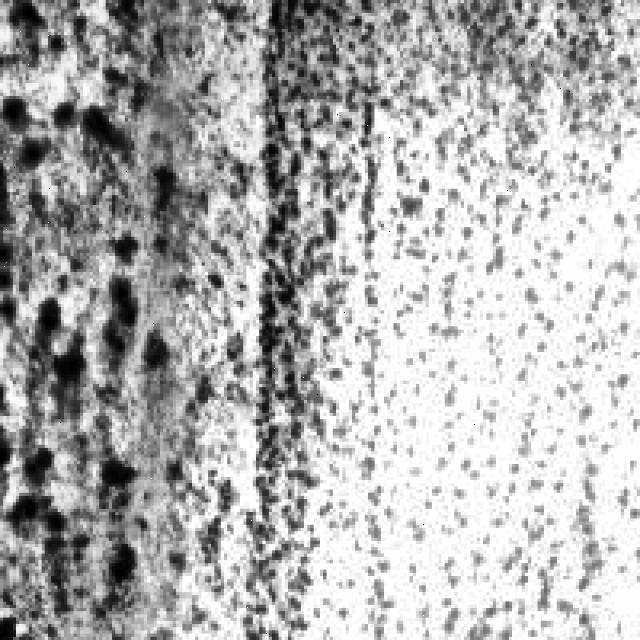Rolled_in_Scale: (0, 0, 170, 602), (246, 0, 378, 627), (390, 0, 628, 237)
